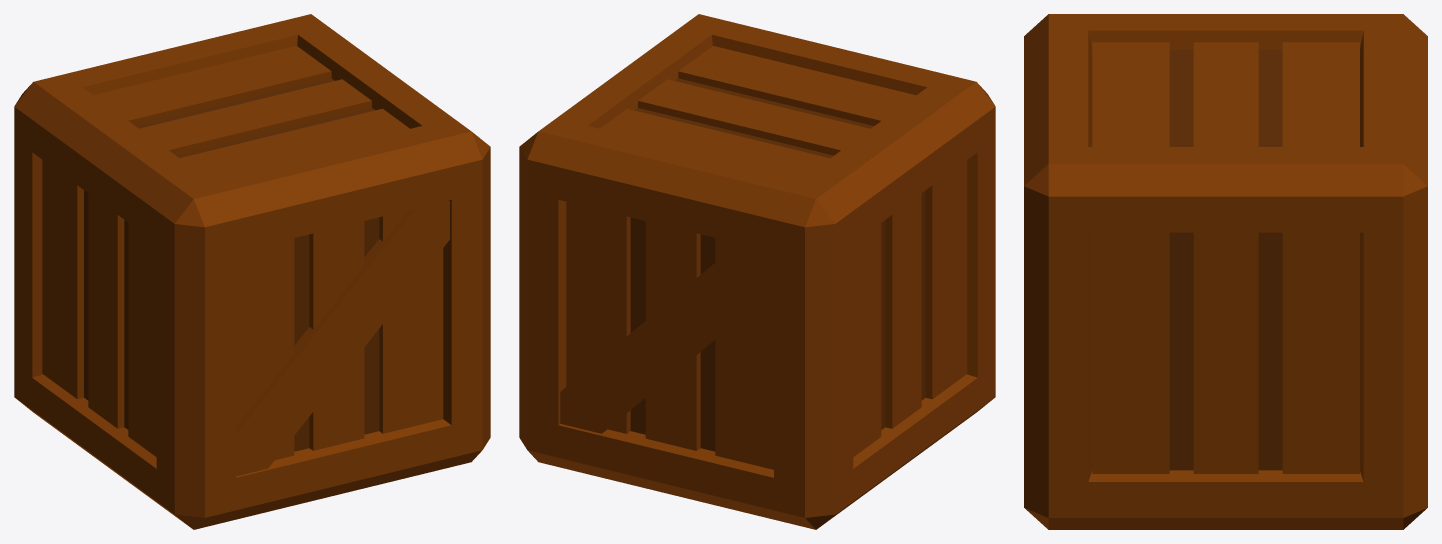
The model's file is CRATE .fbx.
3 views of the same model, side by side, from view 1: azimuth 30°, elevation 25°; view 2: azimuth 150°, elevation 25°; view 3: azimuth 270°, elevation 25° (orthographic). The views are drawn at different scales.
Visible parts, largest first — view 1: Cube; view 2: Cube; view 3: Cube.
Boxes of the visible parts, x1=… form: Cube: x1=14, y1=14, x2=490, y2=529; Cube: x1=519, y1=14, x2=995, y2=529; Cube: x1=1024, y1=14, x2=1427, y2=529.
Size of the model in its own units: 200 by 200 by 200.
